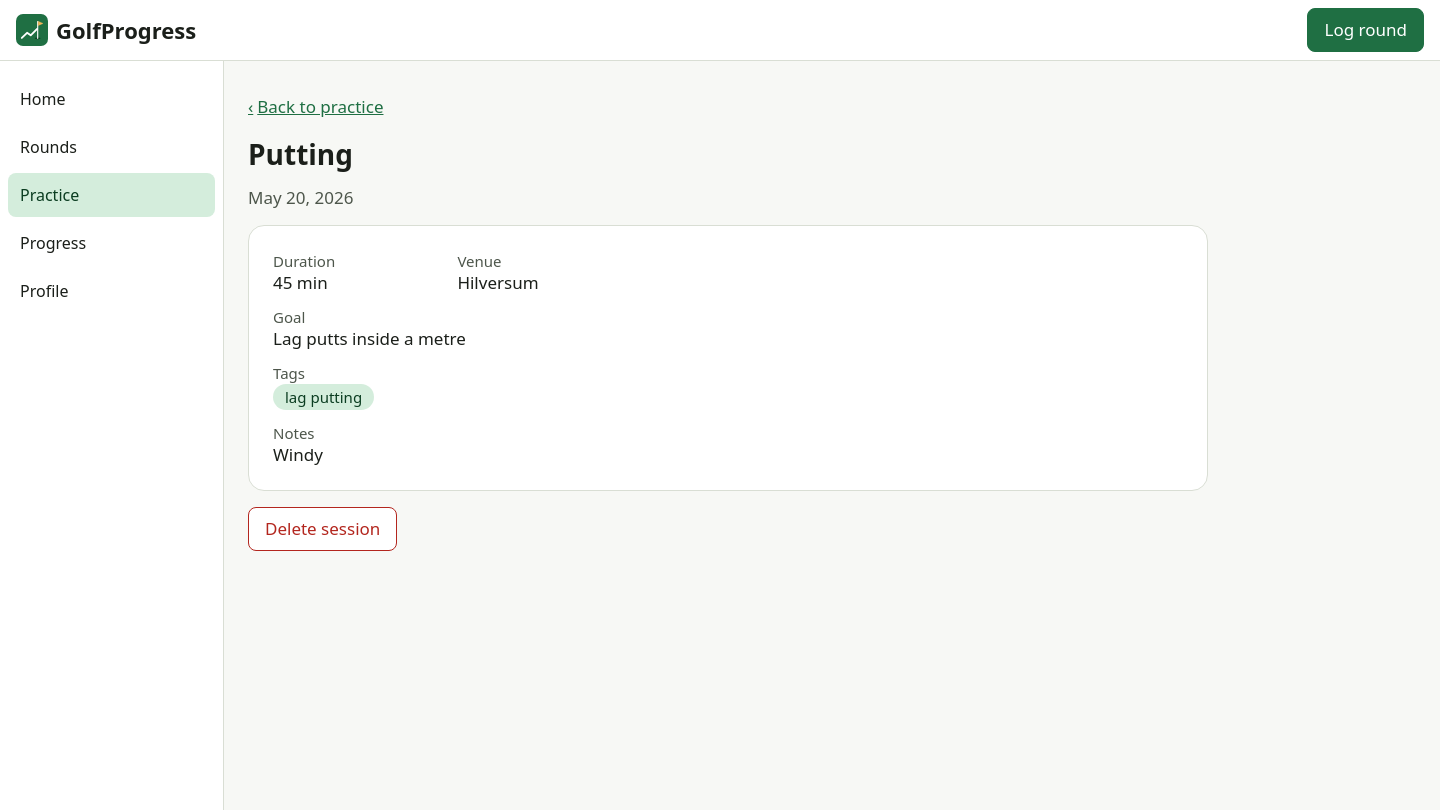
Test: practice session detail (#103) › shows every field, and deletes after confirming
Expected: the heading "Putting" is shown, [248,135,353,173]
Expected: the text "45 min" is shown, [273,271,328,294]
Click the button "Delete session" at (323, 529), box [248,507,397,551]
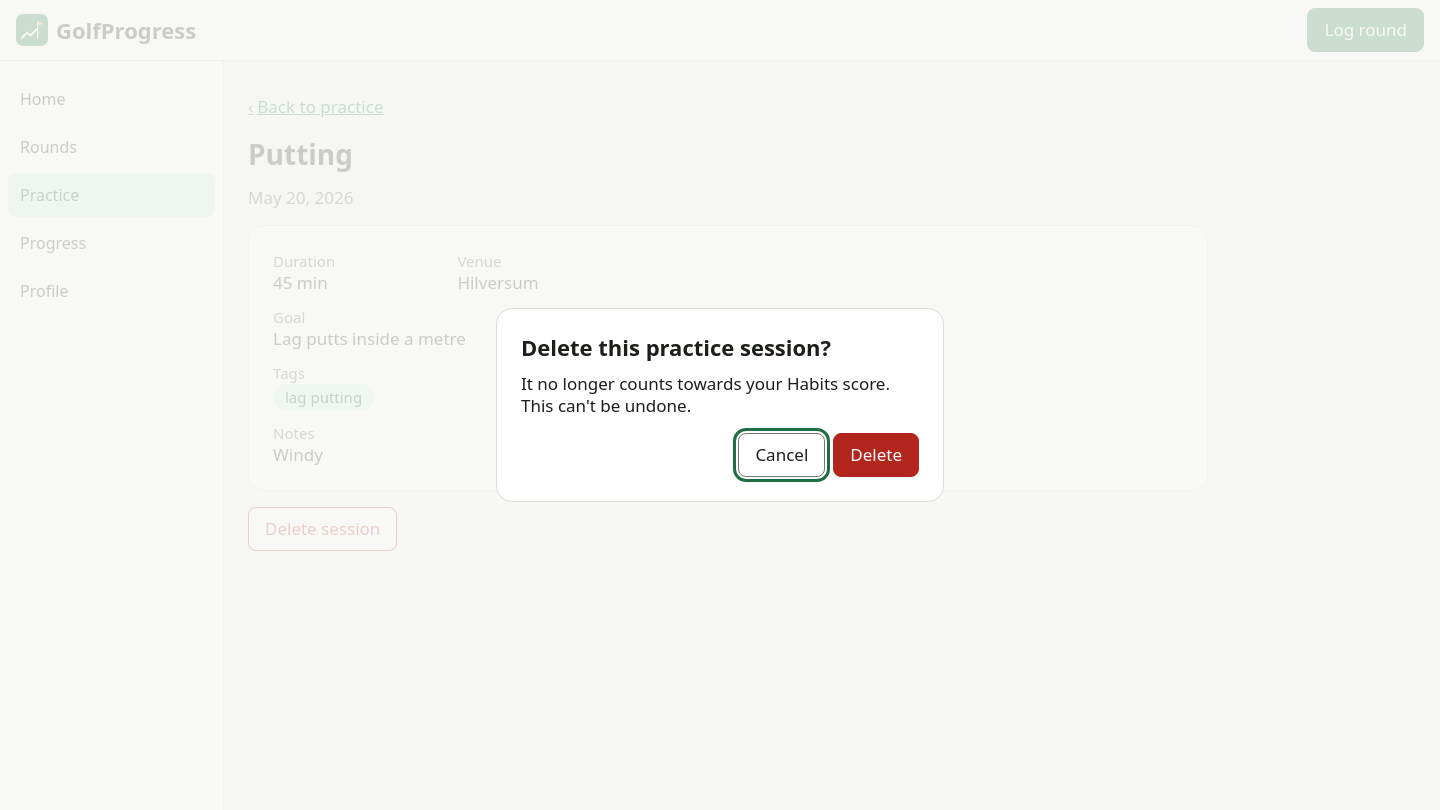
Click the button "Delete" at (876, 455), box [833,433,919,477]
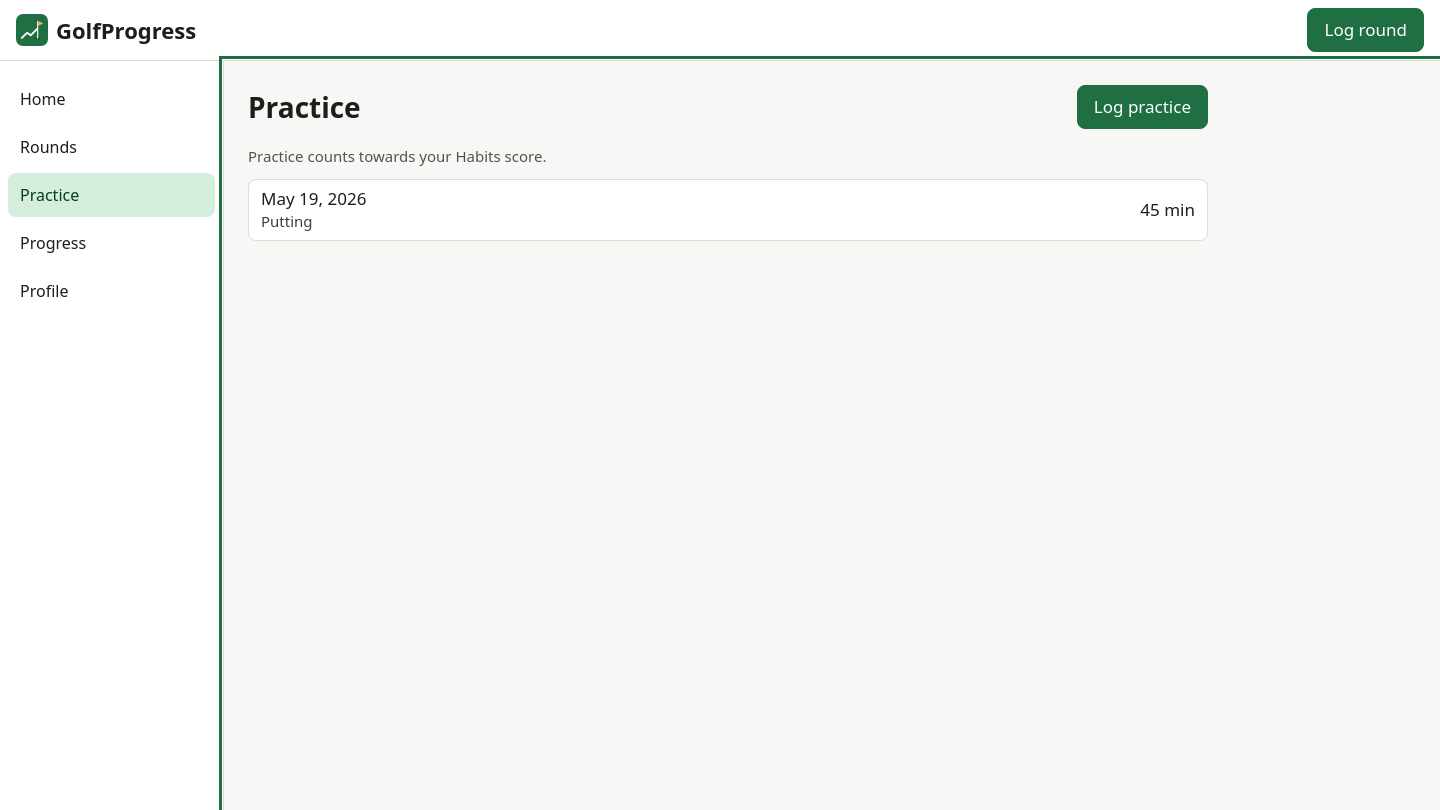
Expected: the number of links "May 19, 2026 Putting 45 min" is 1, [248,179,1208,241]
